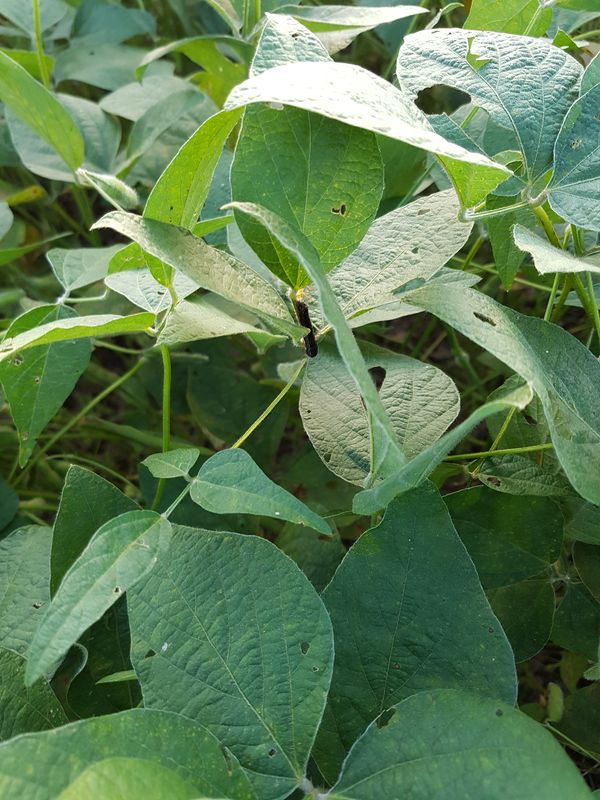Spodoptera_albula: (284, 301, 323, 362)
